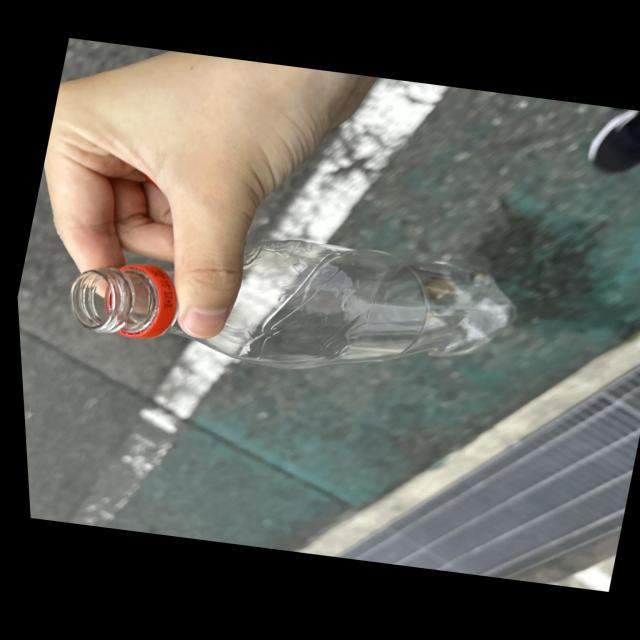empty: (71, 240, 513, 369)
